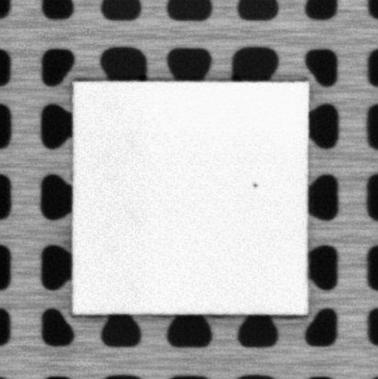DIE_INK: (251, 180, 259, 190)
